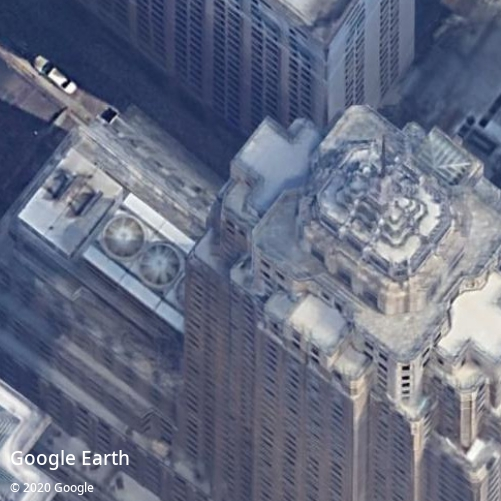Vent: (137, 243, 181, 286), (104, 216, 145, 258)
